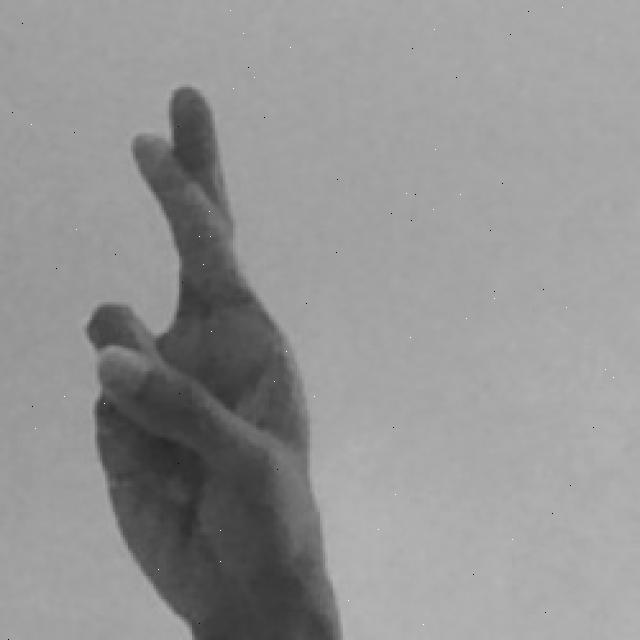R: (78, 81, 350, 640)
